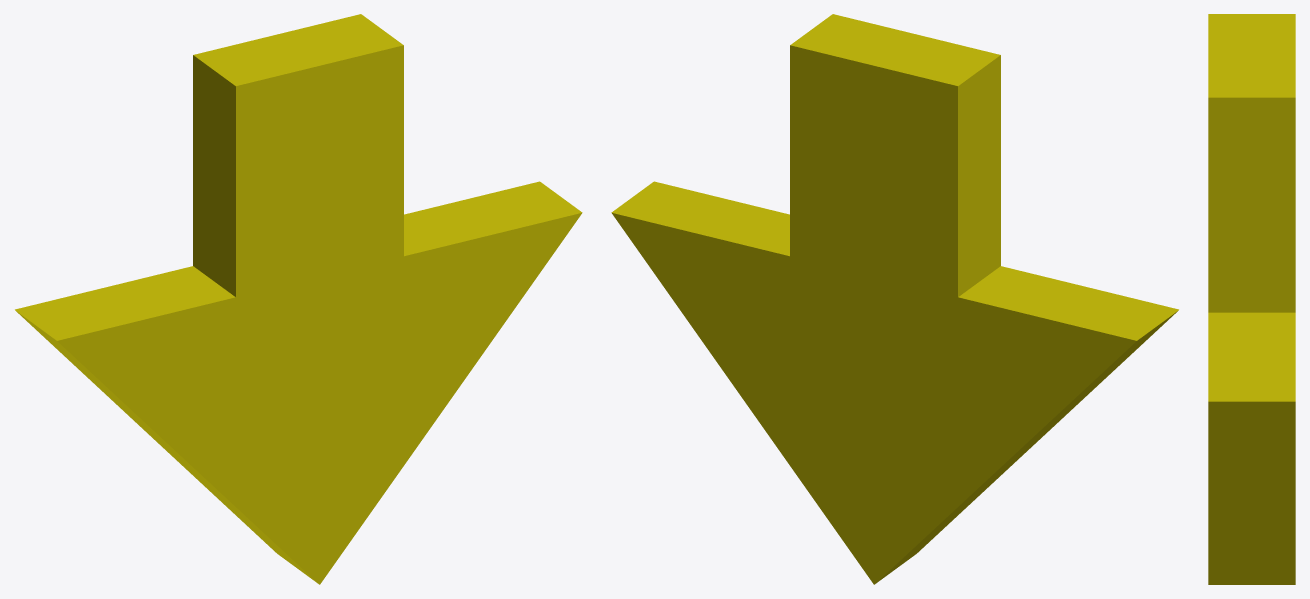
File: yazirushi.dae
The picture shows the model from 3 angles, left to right: view 1: azimuth 30°, elevation 25°; view 2: azimuth 150°, elevation 25°; view 3: azimuth 270°, elevation 25°; orthographic projection.
Parts seen in each view (by area): view 1: ______; view 2: ______; view 3: ______.
Part boxes in pixels (<box>): ______: <box>15,14,582,584</box>; ______: <box>611,14,1178,584</box>; ______: <box>1208,14,1295,584</box>.
Size of the model in its own units: 3.57 by 3.37 by 0.5027.
